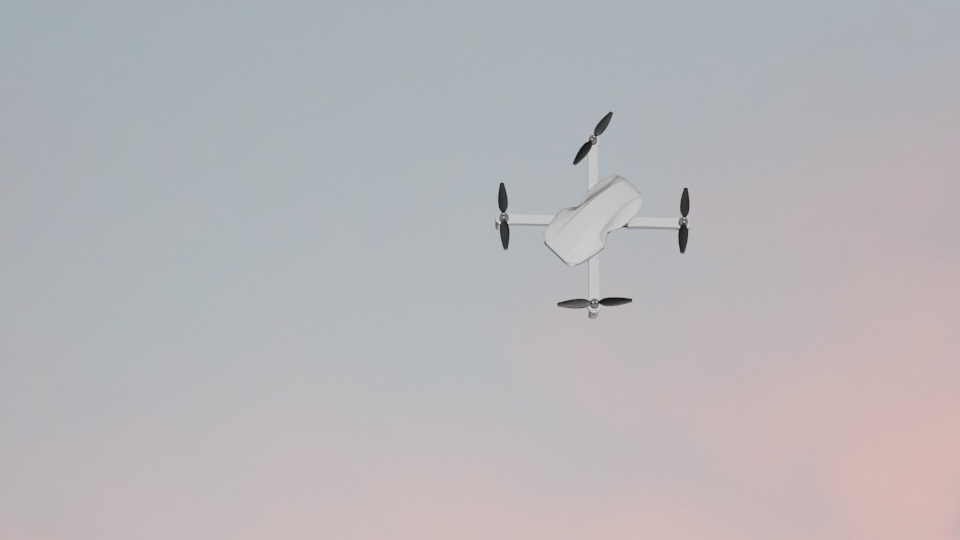drone: (491, 107, 692, 317)
